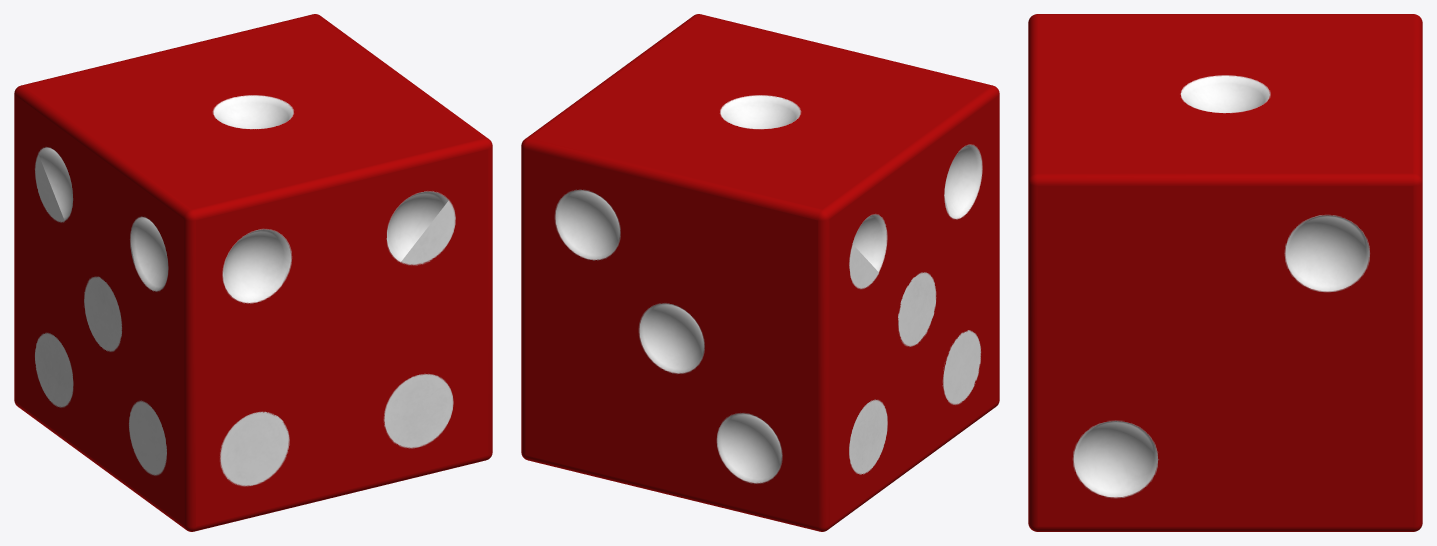
Rendered from Die.fbx.
3 views of the same model, side by side, from view 1: azimuth 30°, elevation 25°; view 2: azimuth 150°, elevation 25°; view 3: azimuth 270°, elevation 25° (orthographic). The views are drawn at different scales.
Parts seen in each view (by area): view 1: Cube.001; view 2: Cube.001; view 3: Cube.001.
Boxes of the visible parts, x1,y1,x2,y2 form: Cube.001: [14, 14, 492, 531]; Cube.001: [521, 14, 999, 531]; Cube.001: [1028, 14, 1422, 531].
Bounding box in the file's own units: 113 × 113 × 113.
